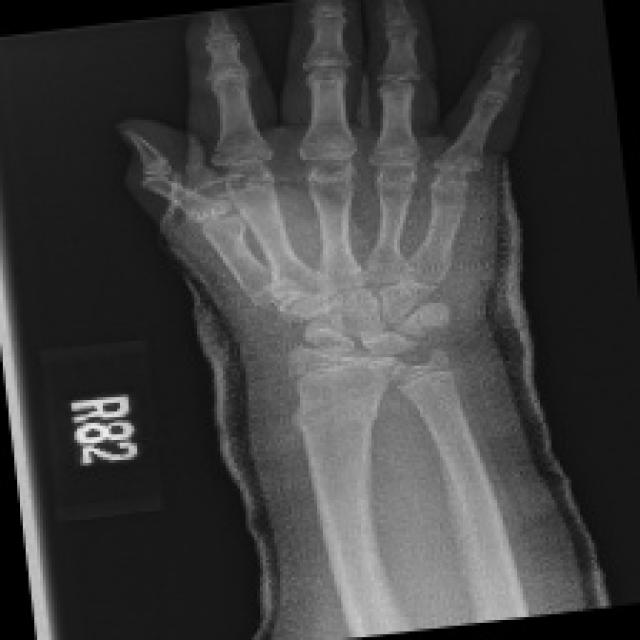fracture: (277, 376, 393, 442)
